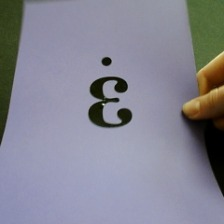violet3: (83, 55, 138, 131)
